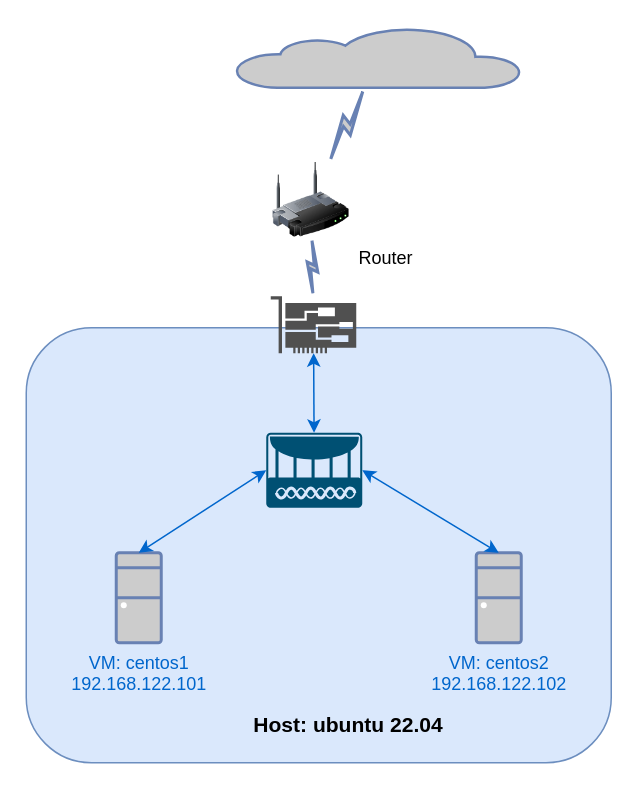
The diagram is 638 pixels wide and 789 high, and some of its shapes have lost their labels. The shapes that lost their labels are listed below. From the top down, each one's centre as x and y in pixels, then its label:
pixel 313 324: NIC wlp3s0
pixel 314 469: bridge virbr0 192.168.122.254
